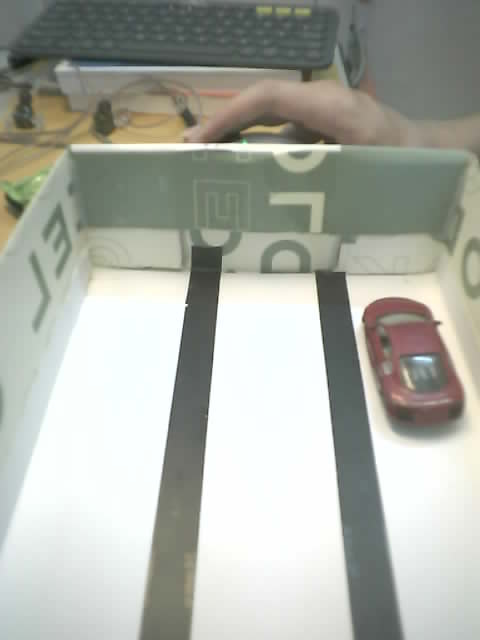vehicle: (361, 297, 465, 443)
